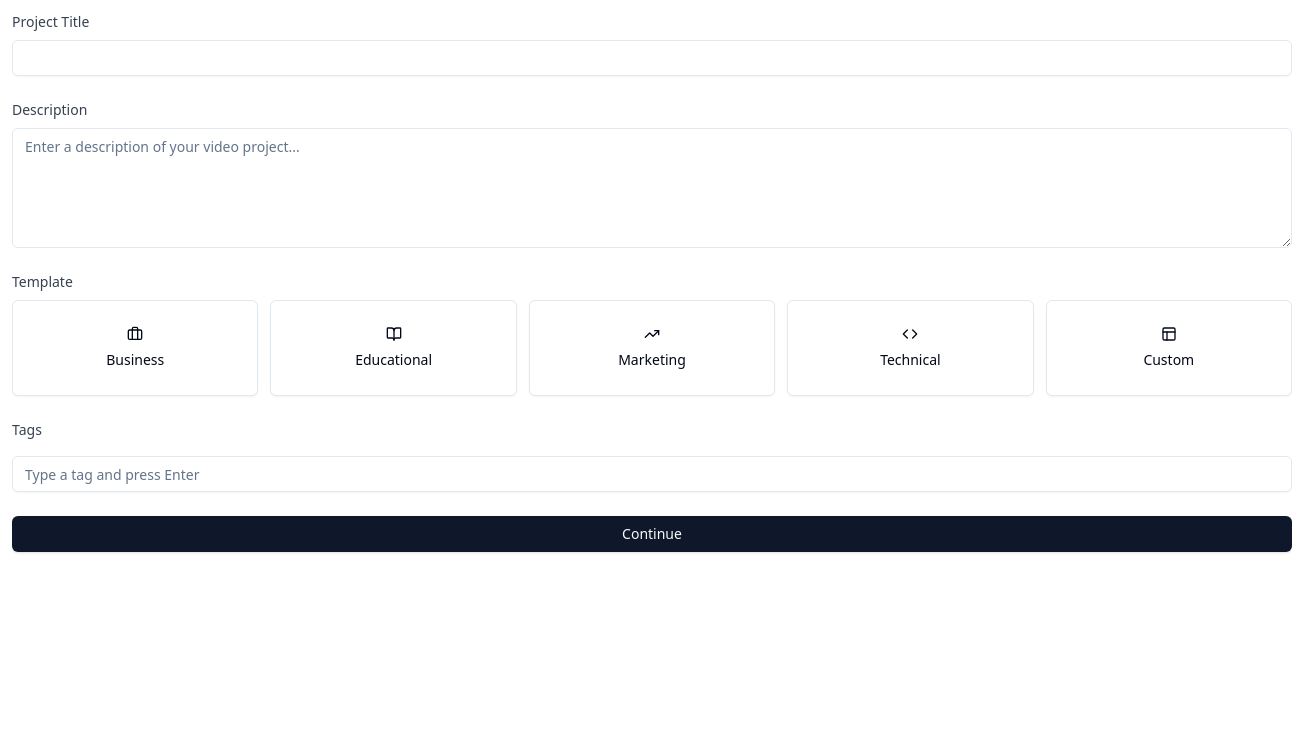
Test: MetadataForm › shows validation errors for required fields
The image size is (1304, 732).
# Submit without filling any fields
Click the button "Continue" at (652, 534), box [12, 516, 1292, 552]
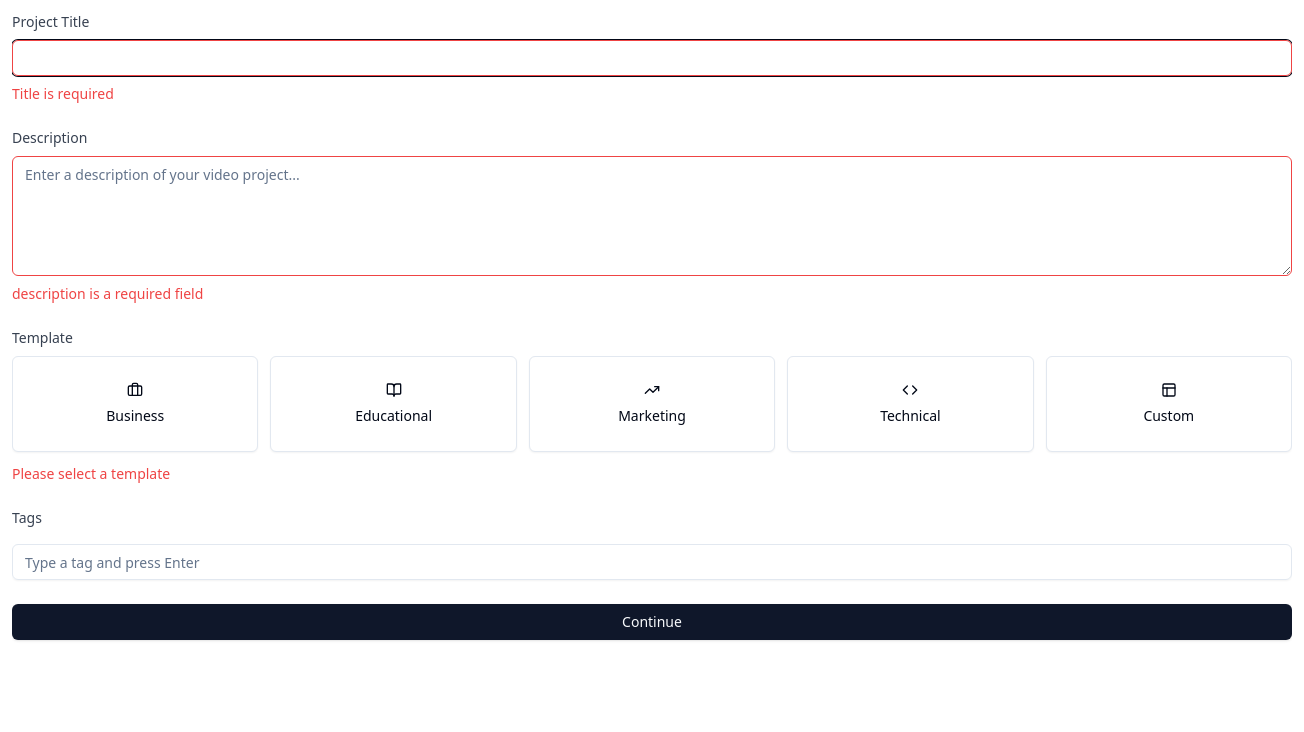
Expected: the text "Title is required" is shown, [12, 84, 114, 103]
Expected: the text "Please select a template" is shown, [12, 464, 170, 483]
